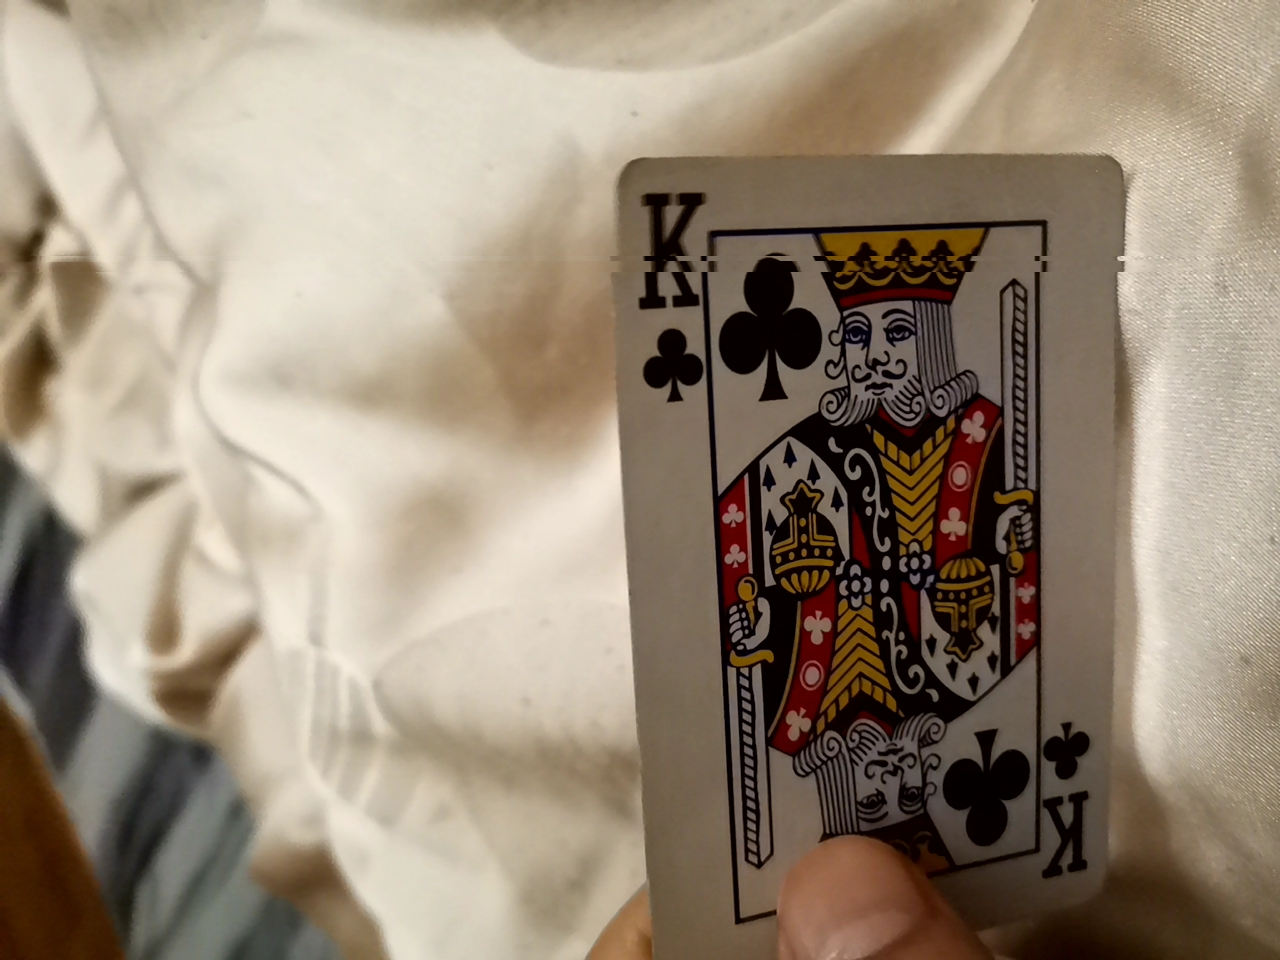mh k: (542, 70, 1153, 887)
